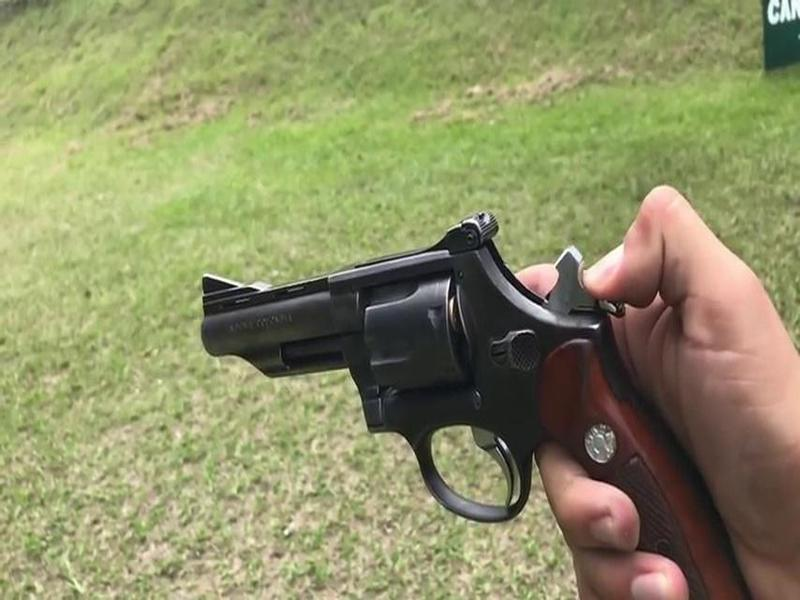Revolver: (196, 202, 750, 600)
